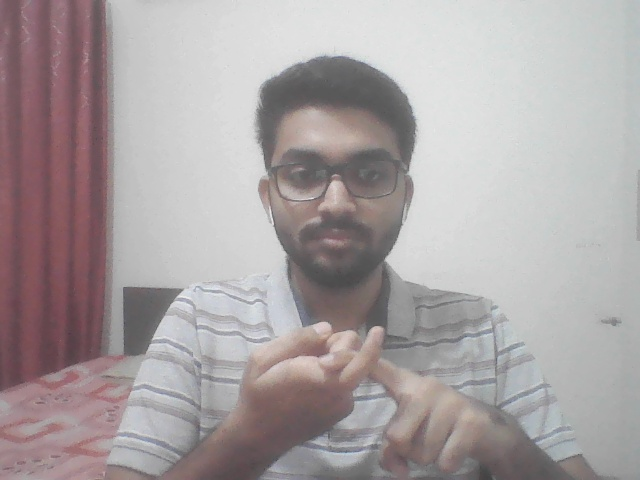friend: (201, 312, 547, 469)
